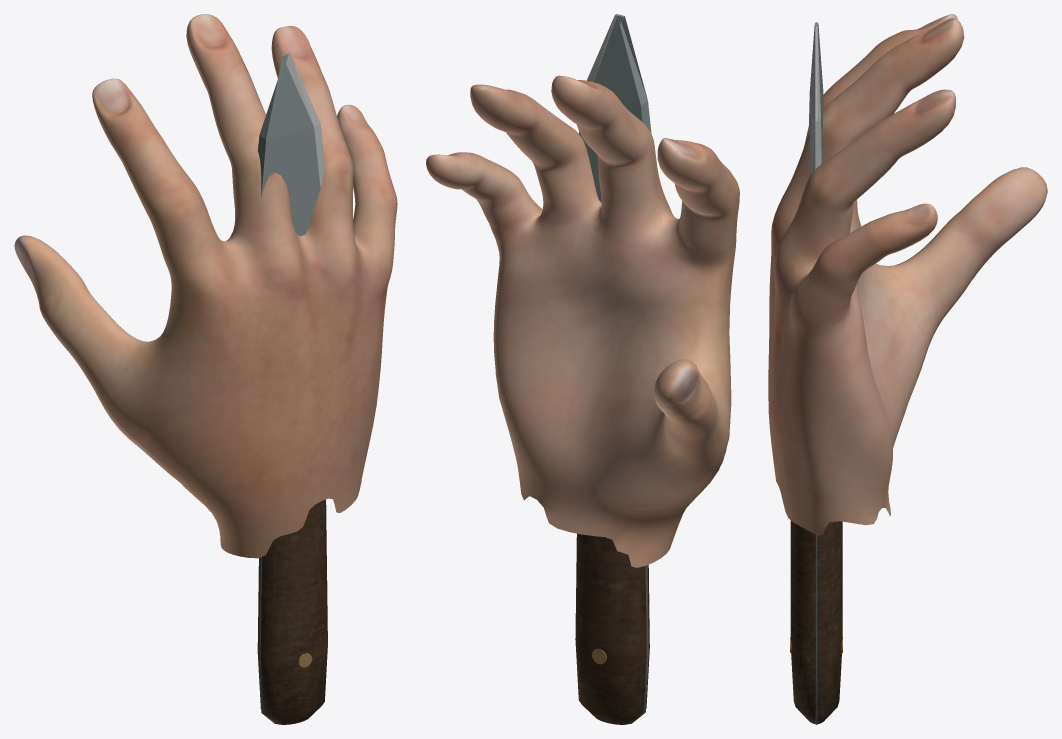
The model's file is intro-escape.glb.
3 views of the same model, side by side, from view 1: azimuth 30°, elevation 25°; view 2: azimuth 150°, elevation 25°; view 3: azimuth 270°, elevation 25° (orthographic). The views are drawn at different scales.
Visible parts, largest first — view 1: IntroHand.009, Contoured walnut handle.009, Drop-point blade.009; view 2: IntroHand.009, Contoured walnut handle.009, Drop-point blade.009; view 3: IntroHand.009, Contoured walnut handle.009, Drop-point blade.009, Full tang / spine.009.
Boxes of the visible parts, bbox=[...] form: IntroHand.009: bbox=[14, 14, 397, 558]; Contoured walnut handle.009: bbox=[257, 499, 327, 724]; Drop-point blade.009: bbox=[257, 53, 324, 236]; IntroHand.009: bbox=[426, 75, 739, 567]; Contoured walnut handle.009: bbox=[575, 533, 649, 724]; Drop-point blade.009: bbox=[578, 14, 651, 202]; IntroHand.009: bbox=[768, 14, 1047, 535]; Contoured walnut handle.009: bbox=[790, 520, 842, 723]; Drop-point blade.009: bbox=[808, 22, 823, 176]; Full tang / spine.009: bbox=[815, 534, 817, 724].
Size of the model in its own units: 0.1082 by 0.233 by 0.0857.
Materials: 6 (2 with a texture image).
